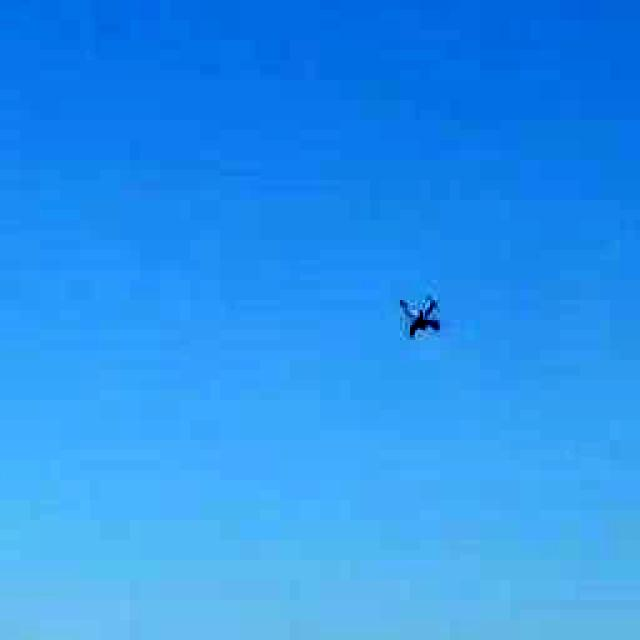bird: (369, 284, 474, 349)
